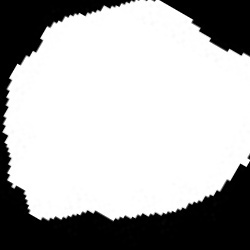spot: (3, 1, 248, 222)
